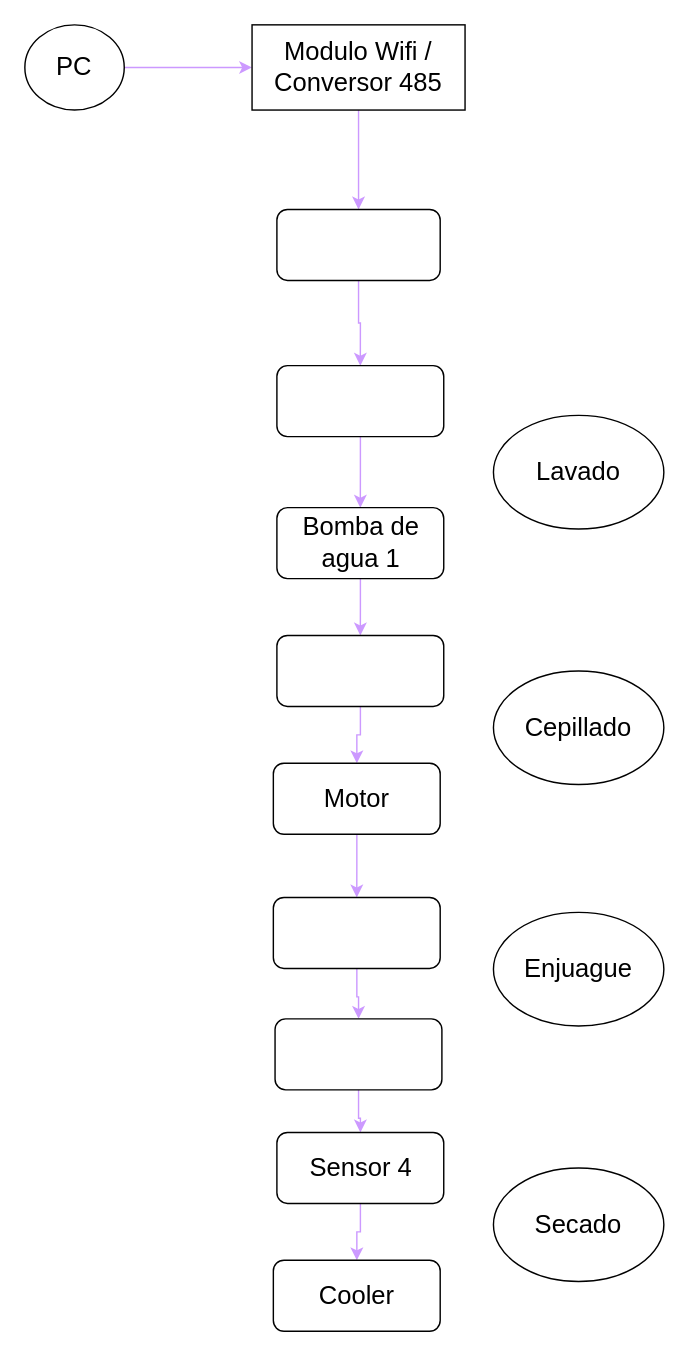
This 689x1356 diagram has some shape labels left out. The box of each missing label's shape, as (x1, y1, x2, y2) in pixels:
Bomba de agua 2: (274, 1017, 442, 1090)
LPC 845: (275, 208, 440, 280)
Sensor 1: (275, 364, 444, 437)
Sensor 2: (275, 634, 444, 706)
Sensor 3: (272, 896, 440, 968)
